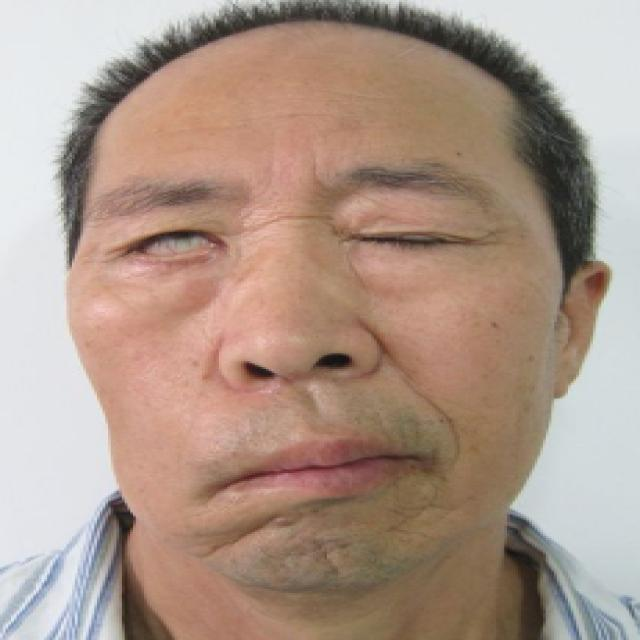stroke_face: (25, 43, 596, 632)
